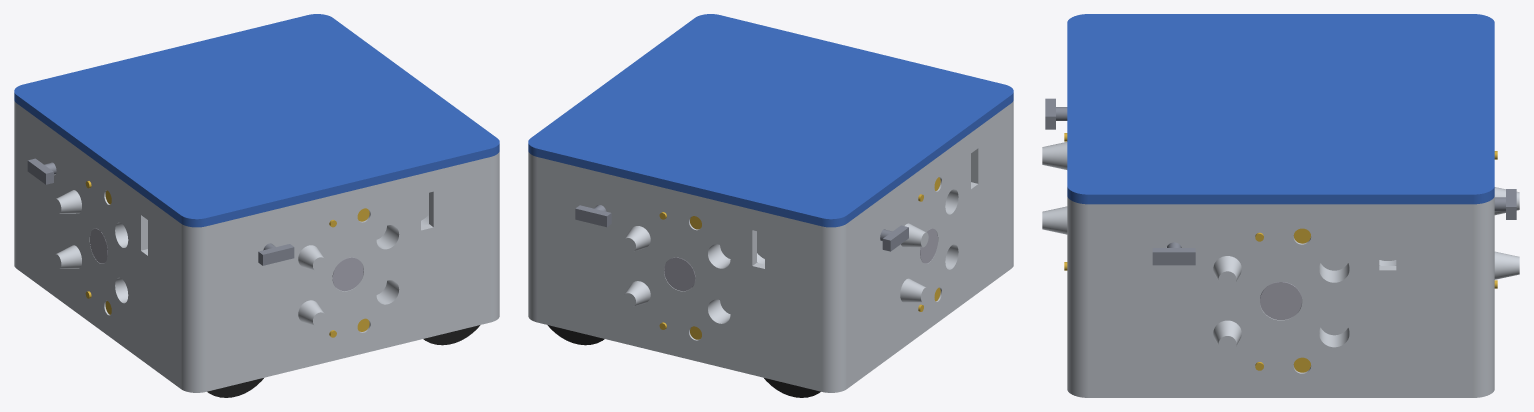
The model's file is cluster_single.glb.
The picture shows the model from 3 angles, left to right: view 1: azimuth 30°, elevation 25°; view 2: azimuth 150°, elevation 25°; view 3: azimuth 270°, elevation 25°; orthographic projection. The views are drawn at different scales.
Parts seen in each view (by area): view 1: body_1, lid_1, magnet_4, latch_4, latch_2, wheel_2, wheel_4, magnet_2; view 2: body_1, lid_1, magnet_3, latch_3, latch_2, wheel_1, wheel_3; view 3: body_1, lid_1, magnet_1, latch_1, latch_3, latch_4.
Boxes of the visible parts, bbox=[...] form: body_1: bbox=[14, 101, 499, 392]; lid_1: bbox=[14, 14, 499, 227]; magnet_4: bbox=[332, 257, 363, 290]; latch_4: bbox=[258, 243, 294, 265]; latch_2: bbox=[27, 158, 56, 184]; wheel_2: bbox=[423, 325, 480, 345]; wheel_4: bbox=[207, 378, 263, 397]; magnet_2: bbox=[90, 228, 107, 263]; body_1: bbox=[528, 101, 1013, 392]; lid_1: bbox=[528, 14, 1013, 227]; magnet_3: bbox=[664, 257, 695, 290]; latch_3: bbox=[575, 204, 611, 227]; latch_2: bbox=[880, 225, 908, 251]; wheel_1: bbox=[547, 325, 604, 345]; wheel_3: bbox=[764, 378, 820, 397]; body_1: bbox=[1042, 142, 1519, 397]; lid_1: bbox=[1067, 14, 1494, 204]; magnet_1: bbox=[1260, 282, 1301, 319]; latch_1: bbox=[1152, 242, 1195, 265]; latch_3: bbox=[1494, 189, 1516, 219]; latch_4: bbox=[1045, 98, 1067, 129].
Size of the model in its own units: 0.134 by 0.069 by 0.134.
